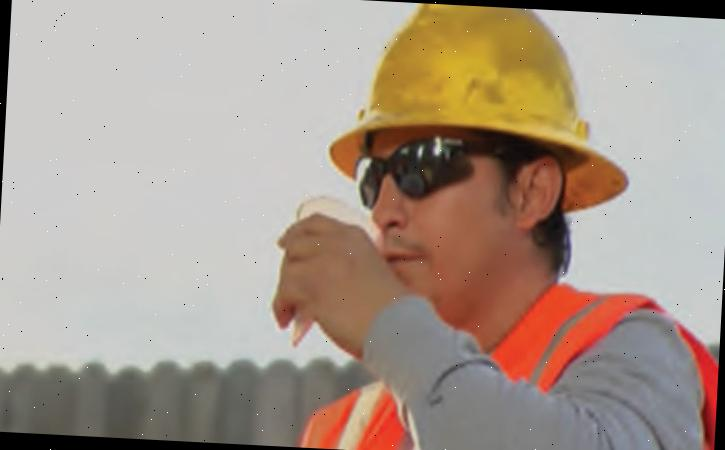helmet: (318, 0, 644, 204)
wear: (290, 280, 721, 450)
